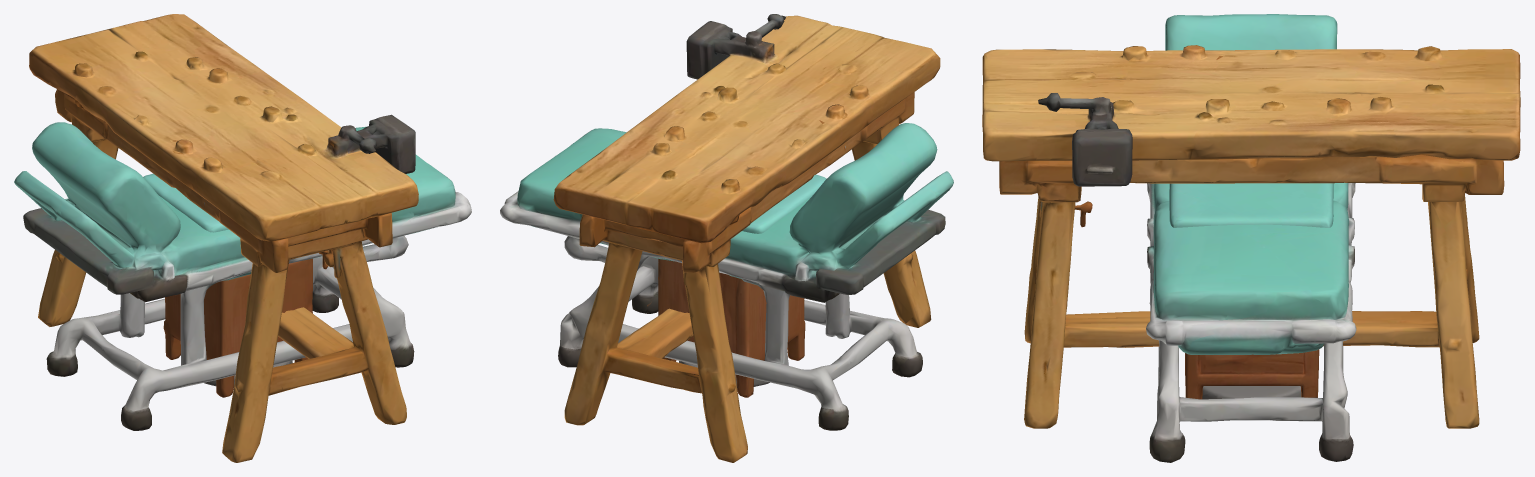
The model's file is tables.glb.
The picture shows the model from 3 angles, left to right: view 1: azimuth 30°, elevation 25°; view 2: azimuth 150°, elevation 25°; view 3: azimuth 270°, elevation 25°; orthographic projection. The views are drawn at different scales.
Visible parts, largest first — view 1: etabli-menuisier, table-examen, bureau-medecin, table-veterinaire; view 2: etabli-menuisier, table-examen, bureau-medecin, table-veterinaire; view 3: etabli-menuisier, table-examen, table-veterinaire, bureau-medecin.
Part boxes in pixels (x1,y1,x2,y2): etabli-menuisier: (29, 14, 418, 462); table-examen: (14, 122, 471, 430); bureau-medecin: (163, 258, 312, 397); table-veterinaire: (143, 173, 292, 387); etabli-menuisier: (553, 14, 940, 462); table-examen: (500, 123, 953, 430); bureau-medecin: (658, 258, 805, 397); table-veterinaire: (679, 174, 826, 387); etabli-menuisier: (982, 45, 1520, 428); table-examen: (1146, 14, 1356, 462); table-veterinaire: (1169, 183, 1333, 399); bureau-medecin: (1185, 349, 1319, 399).
Bounding box in the file's own units: 1.9 × 1.31 × 2.
Materials: 1 (1 with a texture image).
